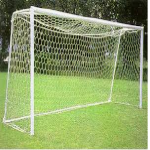goals: (3, 5, 145, 138)
